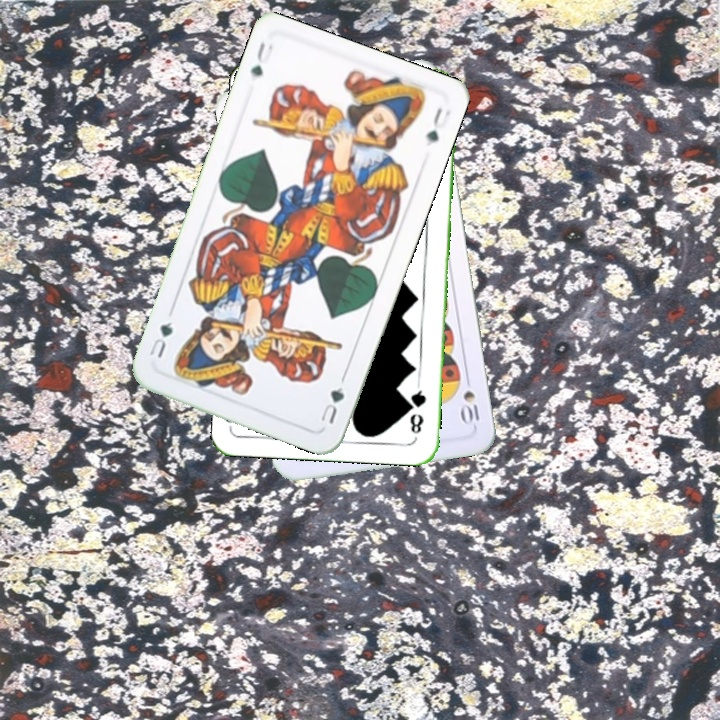G8: (406, 380, 428, 436)
GU: (316, 373, 348, 427), (246, 37, 276, 80)
S10: (459, 370, 482, 429)
